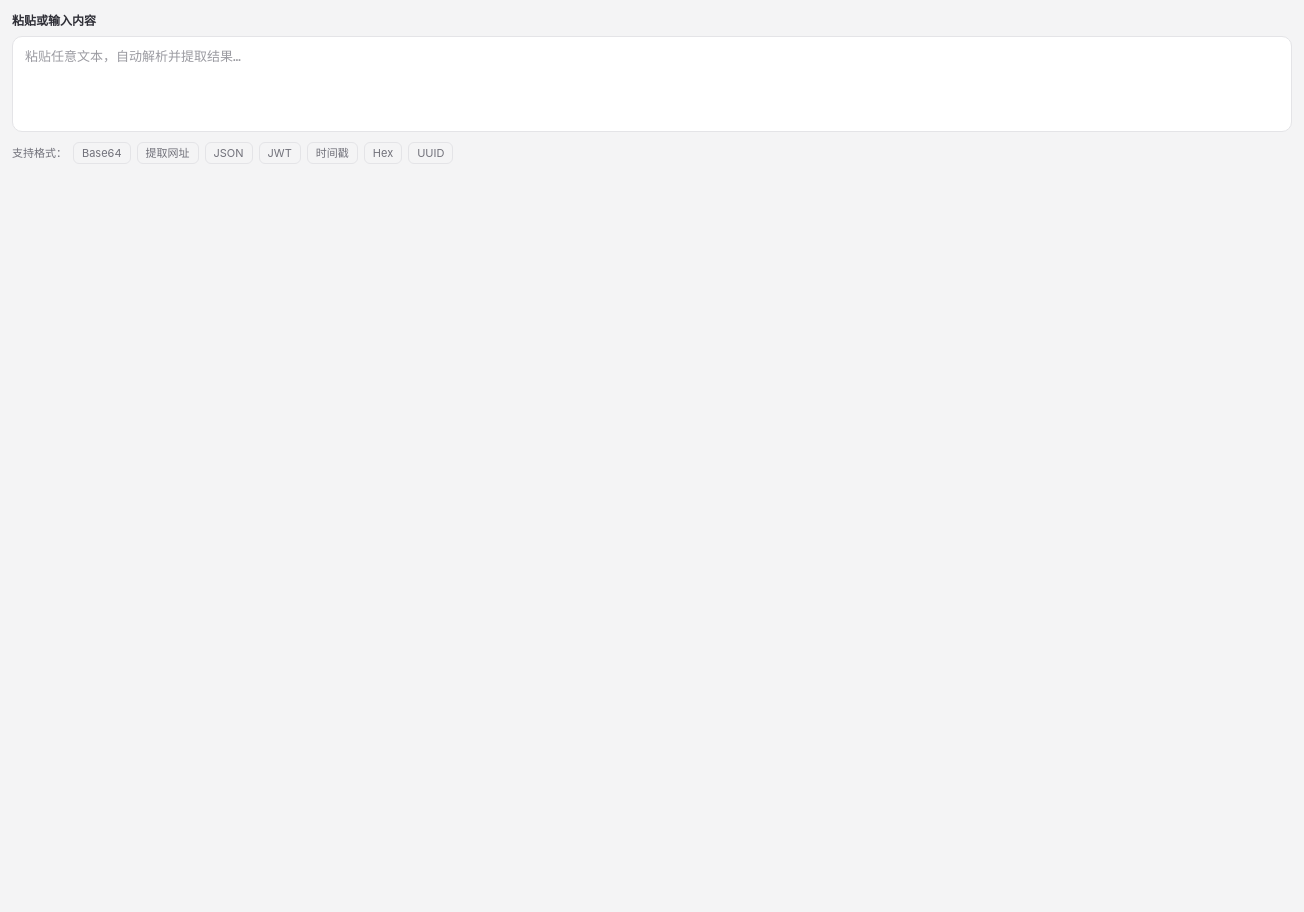
Test: DetectTool 各类型结果视图 › JWT 示例：渲染算法字段与 header/payload/签名块
What coordinates should you click on to do the following:
click the button with class "tw-detect__format-chip" showing "JWT"
I would click on:
 (280, 153)
Its box is [259, 142, 301, 164].
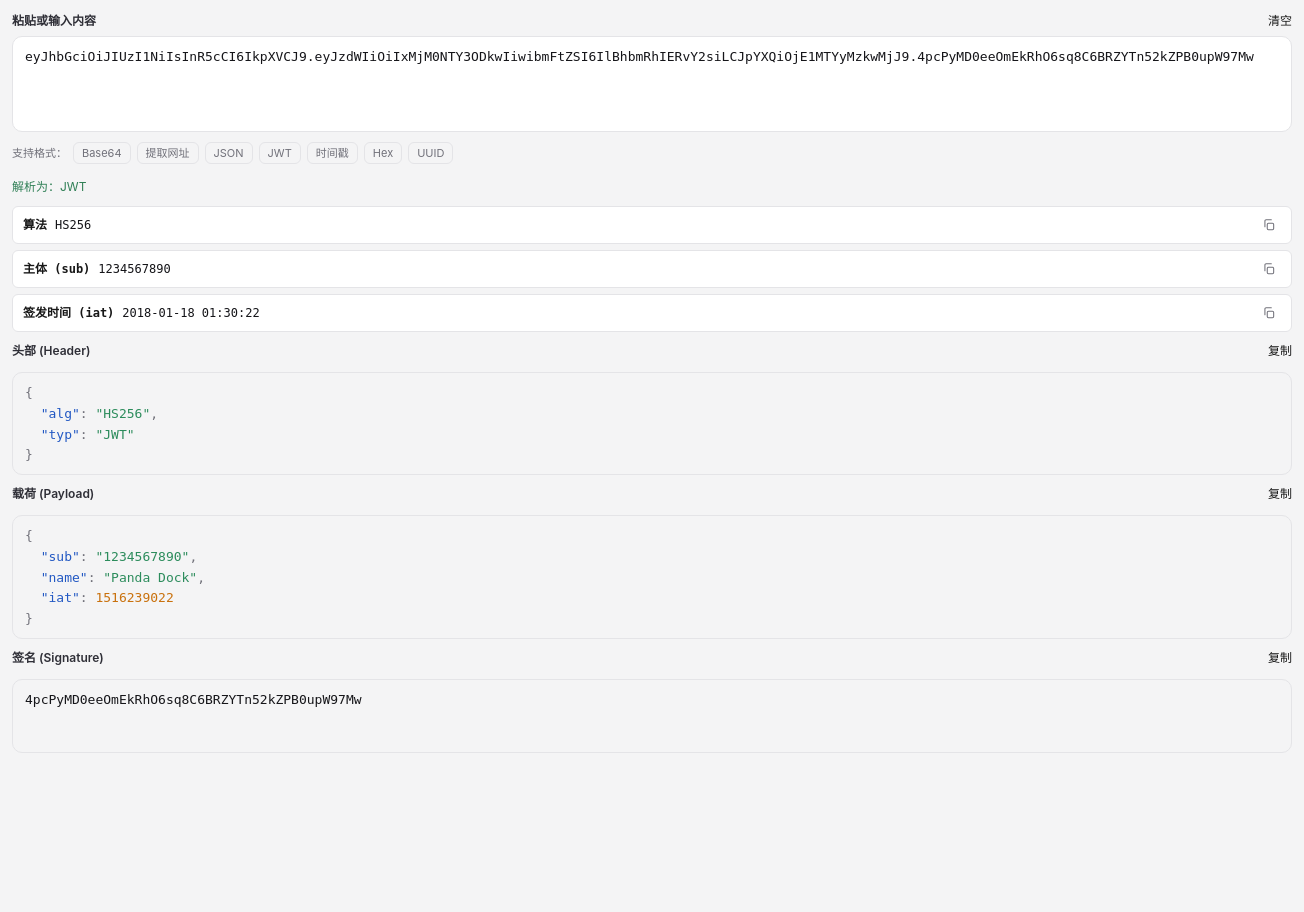
Check: the text "解析为：JWT" is shown, box [12, 178, 86, 196]
Check: the text "HS256" is shown, box [55, 218, 91, 232]
Check: the text "头部 (Header)" is shown, box [12, 343, 90, 358]
